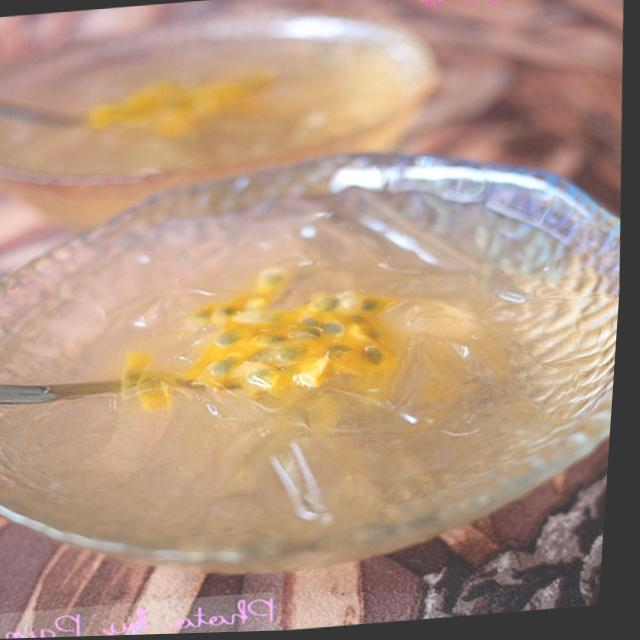蛋糕甜品: (0, 97, 631, 607)
